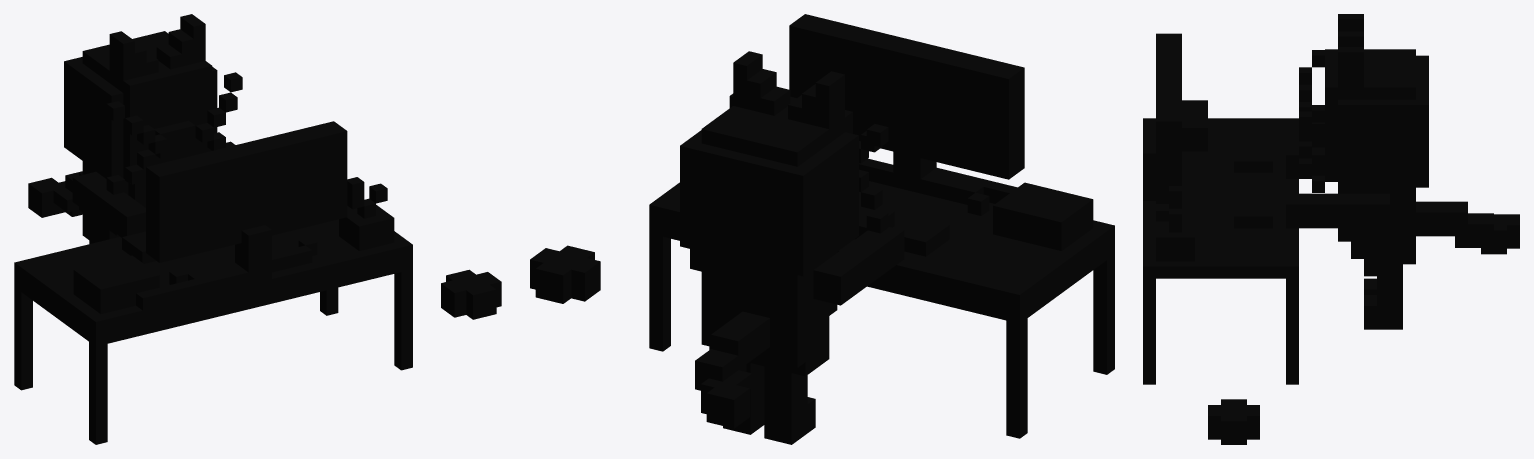
File: benito5.glb
3 views of the same model, side by side, from view 1: azimuth 30°, elevation 25°; view 2: azimuth 150°, elevation 25°; view 3: azimuth 270°, elevation 25° (orthographic). The views are drawn at different scales.
Visible parts, largest first — view 1: benito.vox; view 2: benito.vox; view 3: benito.vox.
Part boxes in pixels (<box>): benito.vox: <box>14,14,501,444</box>; benito.vox: <box>530,14,1114,444</box>; benito.vox: <box>1143,14,1519,444</box>.
Size of what is drawn, in the model's own units: 3.8 by 2.4 by 2.9.
1 material, 1 textured.
